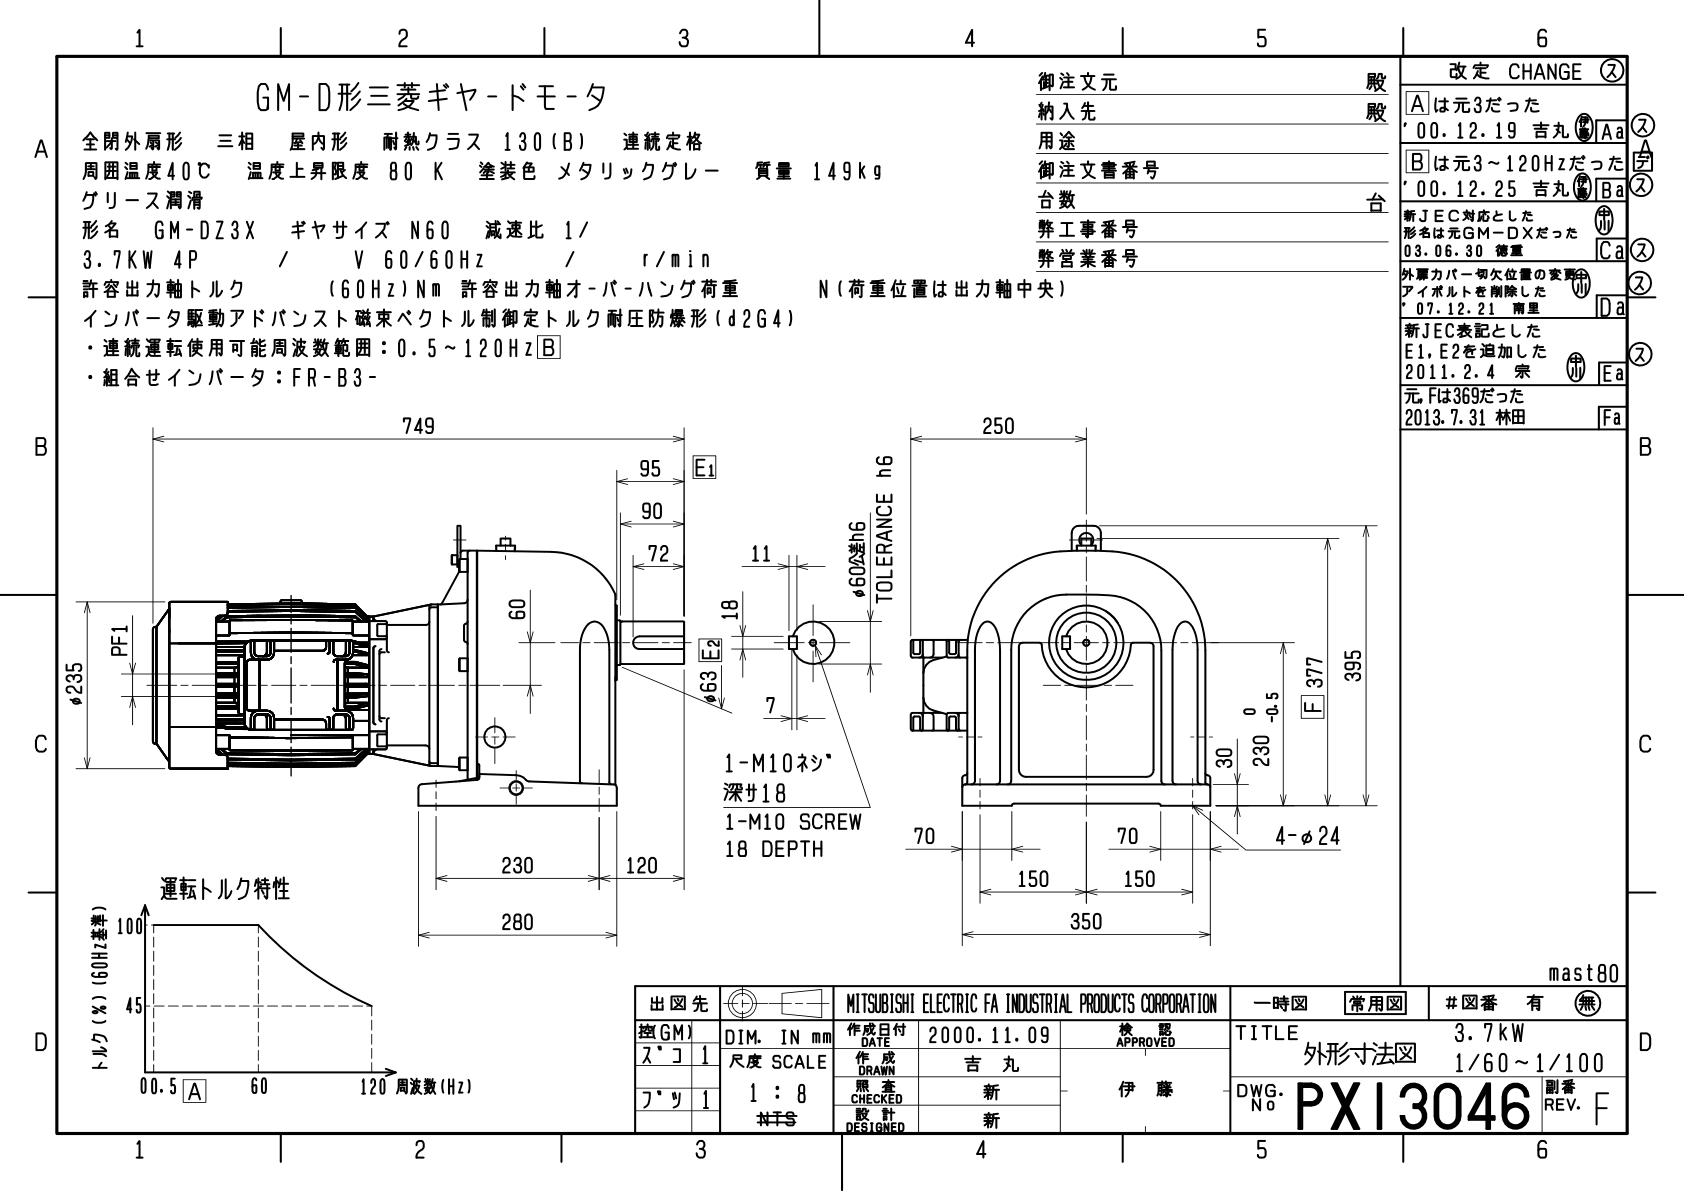GM_D_制御屋内_三相_脚: (61, 396, 1389, 978)
